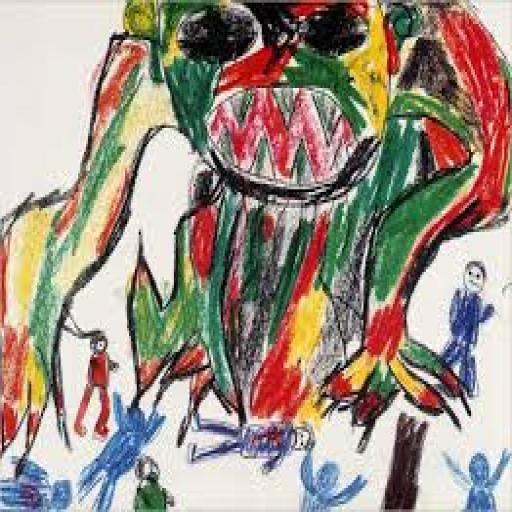person: (420, 242, 495, 402), (75, 395, 169, 509), (179, 398, 316, 460), (68, 314, 122, 458), (441, 436, 510, 510), (288, 444, 362, 512), (1, 454, 76, 510), (121, 454, 180, 509)
